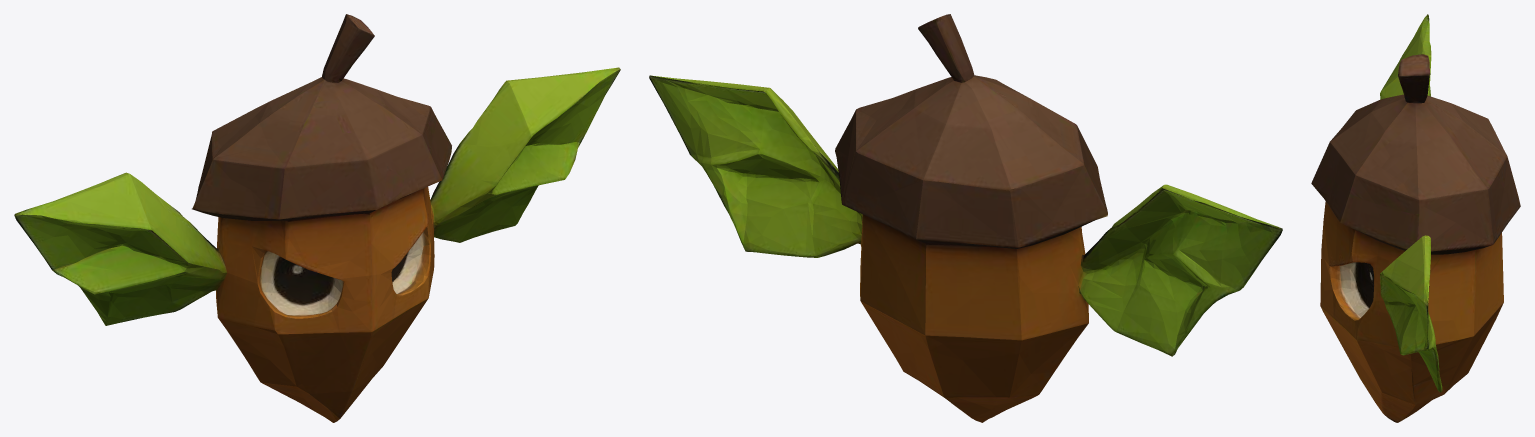
Rendered from m_gland_volant.glb.
The picture shows the model from 3 angles, left to right: view 1: azimuth 30°, elevation 25°; view 2: azimuth 150°, elevation 25°; view 3: azimuth 270°, elevation 25°; orthographic projection. The views are drawn at different scales.
Parts seen in each view (by area): view 1: geometry_0; view 2: geometry_0; view 3: geometry_0.
Part boxes in pixels (x1=…): geometry_0: x1=14, y1=14, x2=620, y2=422; geometry_0: x1=649, y1=14, x2=1282, y2=422; geometry_0: x1=1311, y1=14, x2=1520, y2=422.
Size of the model in its own units: 1 by 0.6176 by 0.3071.
1 material, 1 textured.
